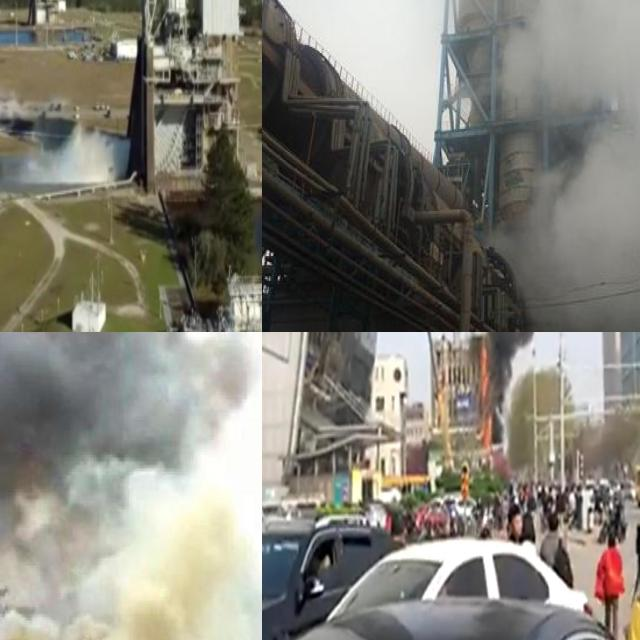fire: (476, 348, 494, 451)
smoke: (0, 332, 262, 640), (469, 332, 577, 443), (546, 144, 631, 267), (518, 0, 619, 96), (522, 166, 600, 278), (24, 128, 116, 192)
